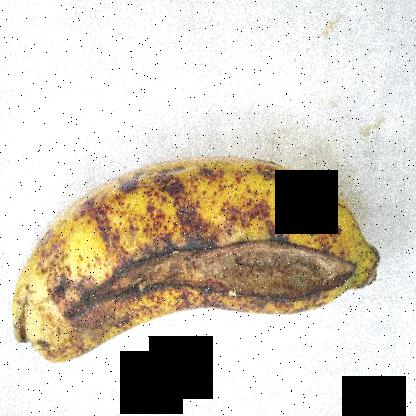rotten: (60, 174, 360, 382)
